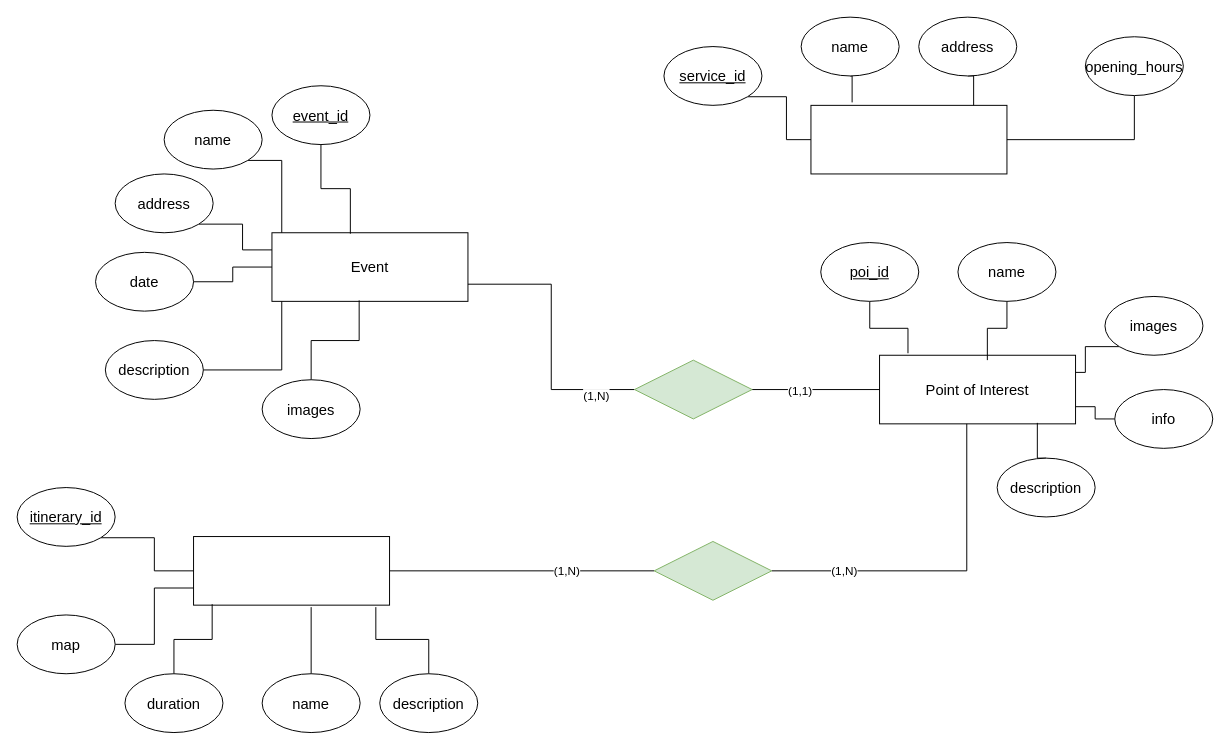
Image size: 1230x750. Some labels were removed from this diagram. Here are the shapes that lost their labels. From the top down, the centre of each, then its label:
At [908,139]: "Service".
At [693,389]: "HOSTED BY".
At [291,570]: "Itinerary".
At [712,570]: "INVOLVED IN".
